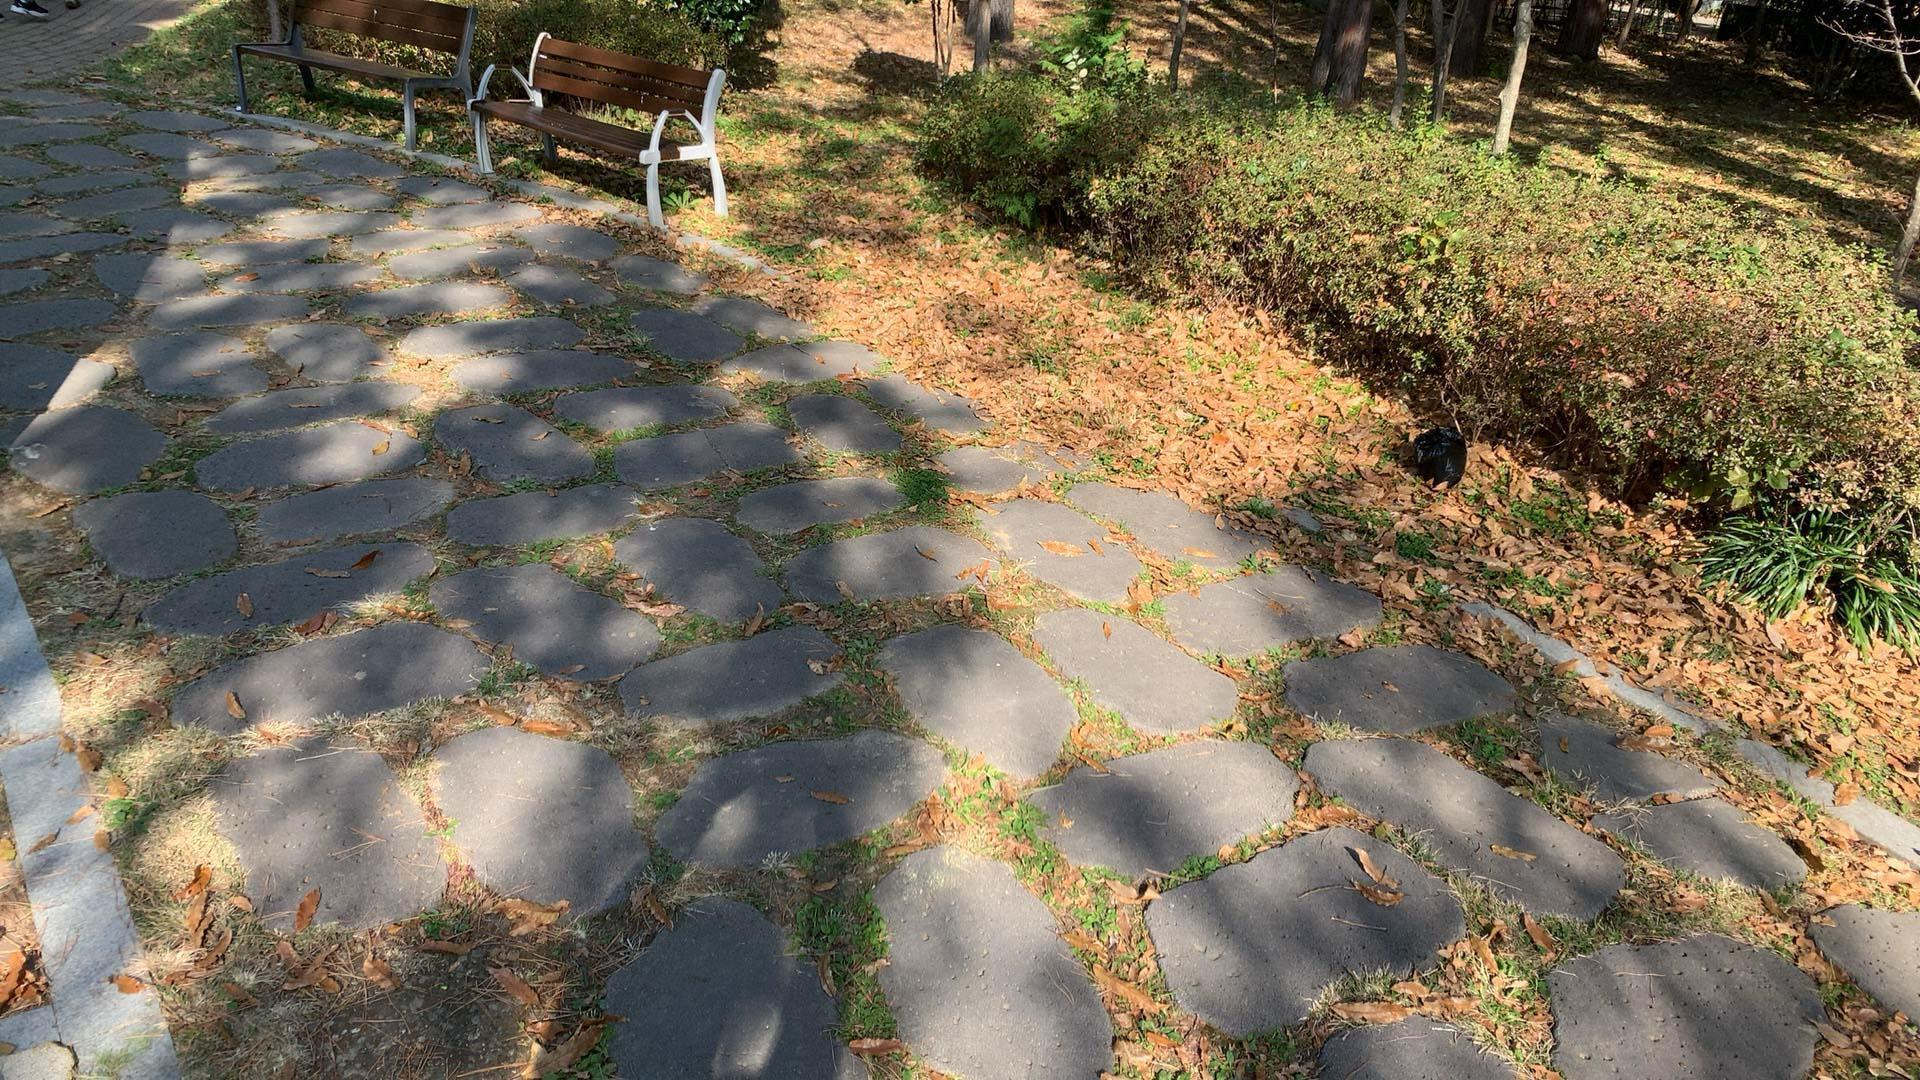black_bag: (1407, 419, 1472, 491)
